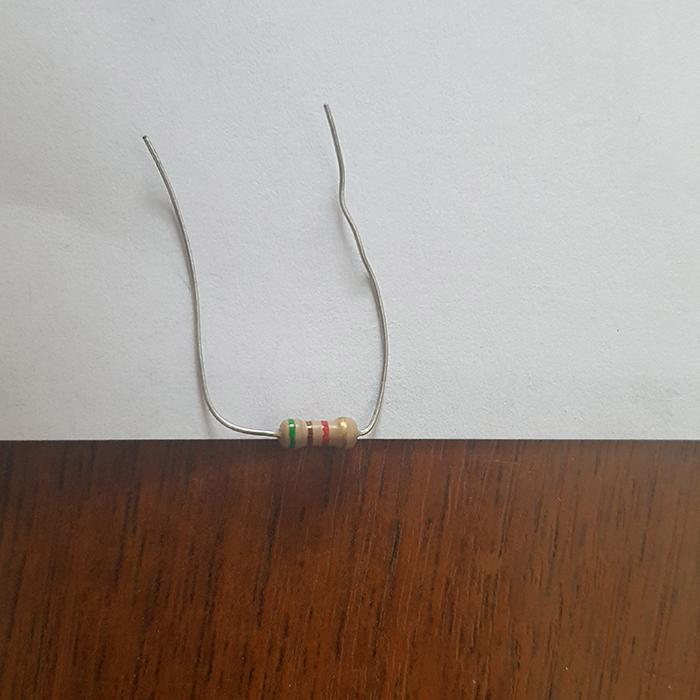resistor: (275, 415, 362, 450)
